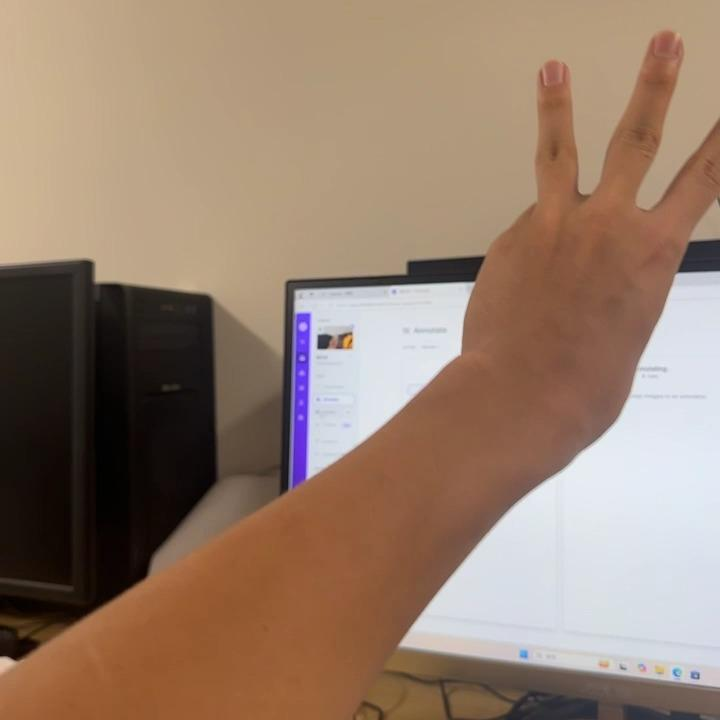without_gloves: (443, 5, 720, 446)
